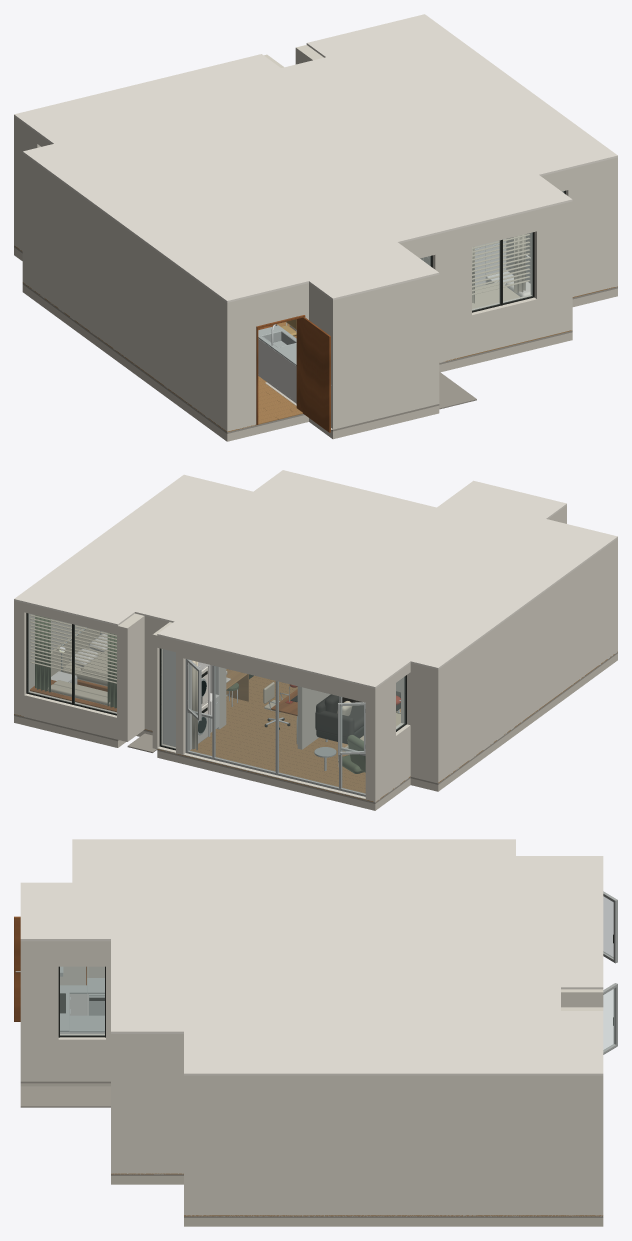
The model's file is home-model-inset-700.glb.
The picture shows the model from 3 angles, top to bottom: view 1: azimuth 30°, elevation 25°; view 2: azimuth 150°, elevation 25°; view 3: azimuth 270°, elevation 25°; orthographic projection. The views are drawn at different scales.
Visible parts, largest first — view 1: 全屋顶面, CAD墙体_36, CAD墙体_86, CAD墙体_01, CAD墙体_02, 完整户型基座, CAD墙体_04, CAD墙体_35, CAD墙体_05, CAD墙体_83, CAD墙体_20, 入户门 (+27 smaller); view 2: 全屋顶面, Floor_shared_温润橡木地板, CAD墙体_36, CAD墙体_86, 阳台F2中央固定玻璃, 阳台F1中央固定玻璃, CAD墙体_02, 完整户型基座, CAD墙体_01, 主卧窗玻璃.001, 主卧窗玻璃, CAD墙体_05 (+34 smaller); view 3: 全屋顶面, CAD墙体_43, CAD墙体_01, CAD墙体_04, CAD墙体_86, CAD墙体_26, 完整户型基座, CAD墙体_83, CAD墙体_34, 厨房窗玻璃, CAD墙体_40, CAD墙体_85 (+23 smaller).
Boxes of the visible parts, box(x1,y1,x2,y2) form: 全屋顶面: box(14, 14, 617, 302); CAD墙体_36: box(22, 190, 256, 373); CAD墙体_86: box(14, 45, 617, 313); CAD墙体_01: box(289, 262, 617, 428); CAD墙体_02: box(14, 221, 256, 430); 完整户型基座: box(14, 247, 617, 441); CAD墙体_04: box(331, 248, 617, 404); CAD墙体_35: box(308, 311, 439, 371); CAD墙体_05: box(14, 207, 256, 407); CAD墙体_83: box(22, 61, 617, 321); CAD墙体_20: box(14, 193, 256, 390); 入户门: box(303, 317, 330, 432); 全屋顶面: box(14, 470, 617, 688); Floor_shared_温润橡木地板: box(14, 651, 617, 801); CAD墙体_36: box(401, 570, 617, 731); CAD墙体_86: box(14, 505, 617, 697); 阳台F2中央固定玻璃: box(215, 666, 275, 771); 阳台F1中央固定玻璃: box(278, 682, 338, 787); CAD墙体_02: box(365, 630, 617, 801); 完整户型基座: box(14, 653, 617, 810); CAD墙体_01: box(14, 691, 228, 747); 主卧窗玻璃.001: box(28, 613, 71, 702); 主卧窗玻璃: box(74, 625, 116, 713); CAD墙体_05: box(365, 618, 617, 780); 全屋顶面: box(20, 839, 603, 1075); CAD墙体_43: box(184, 1115, 603, 1152); CAD墙体_01: box(20, 1054, 603, 1214); CAD墙体_04: box(20, 1034, 603, 1189); CAD墙体_86: box(20, 941, 603, 1086); CAD墙体_26: box(184, 1159, 603, 1171); 完整户型基座: box(20, 1083, 603, 1226); CAD墙体_83: box(20, 956, 603, 1095); CAD墙体_34: box(184, 1152, 603, 1159); 厨房窗玻璃: box(60, 967, 104, 1035); CAD墙体_40: box(111, 1073, 183, 1110); CAD墙体_85: box(20, 952, 603, 1090).
Size of the model in its own units: 9.73 by 2.96 by 10.6.
Materials: 33 (3 with a texture image).
